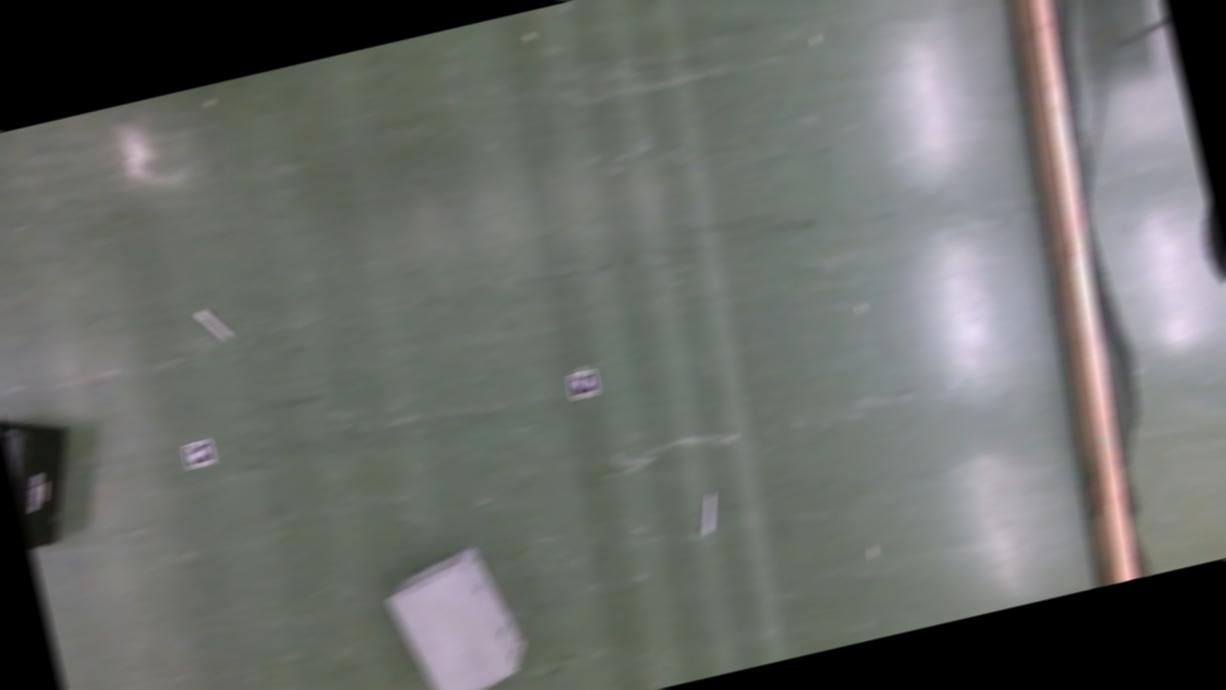probes: (198, 304, 231, 344), (696, 490, 720, 532)
rako: (378, 538, 534, 690), (0, 404, 91, 548)
